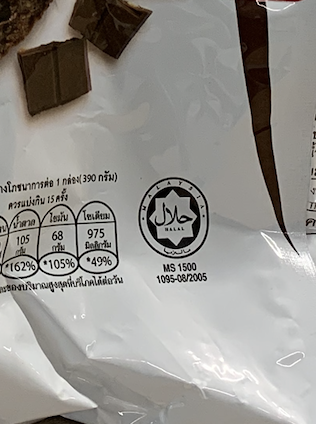halal: (149, 188, 201, 252)
